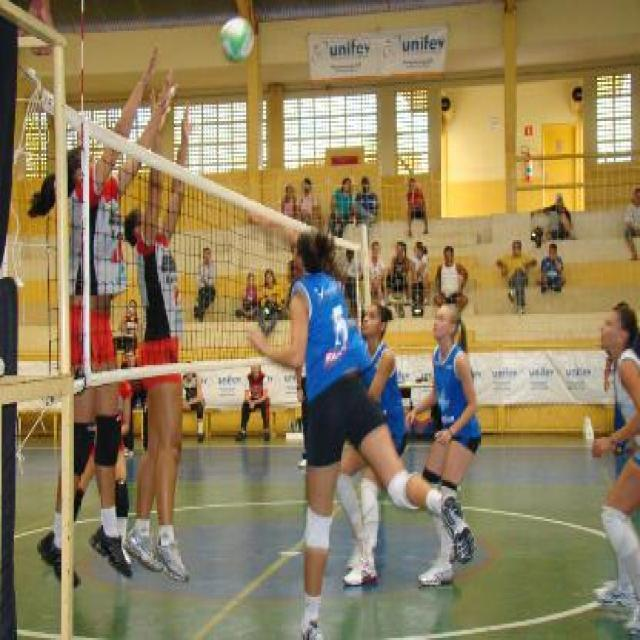volleyball: (220, 18, 254, 62)
